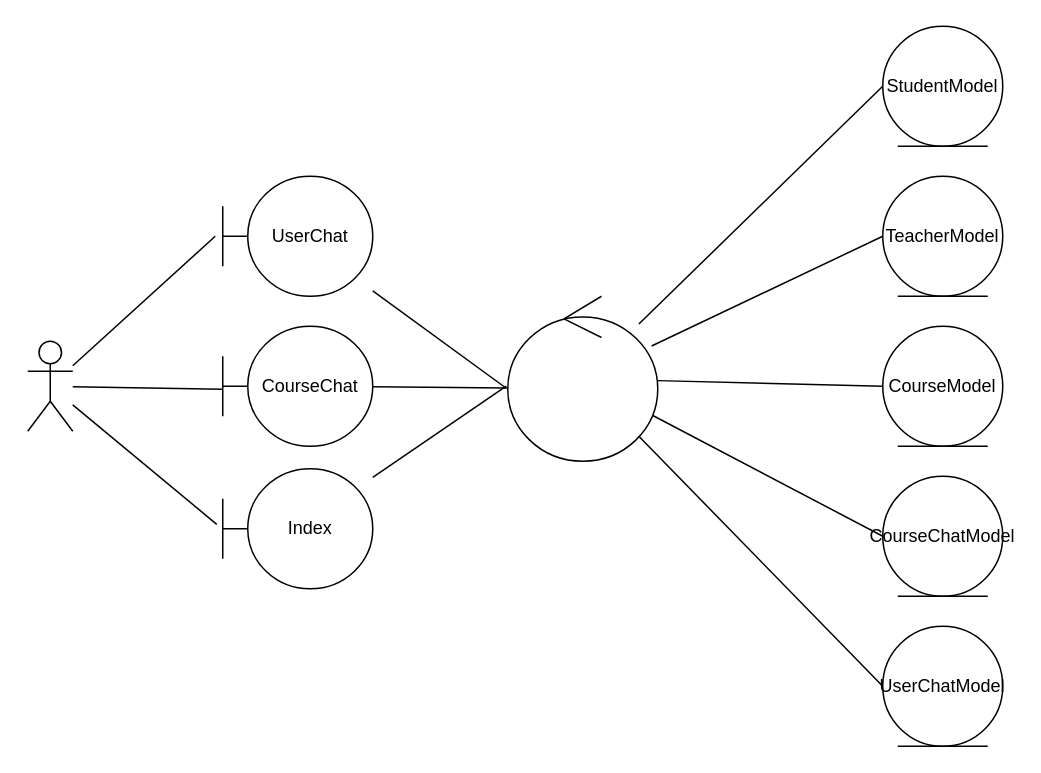
Some shapes in this 1041 by 773 pixel diagram are drawn without their labels. The centre of each missing label's shape, as x and y in pixels:
"ChatController" belongs at point 582,378.
"Автор" belongs at point 49,385.
